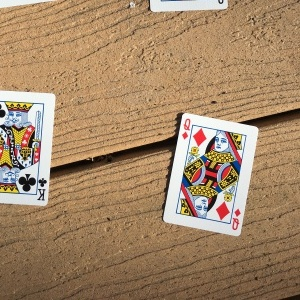card: (163, 111, 260, 237)
